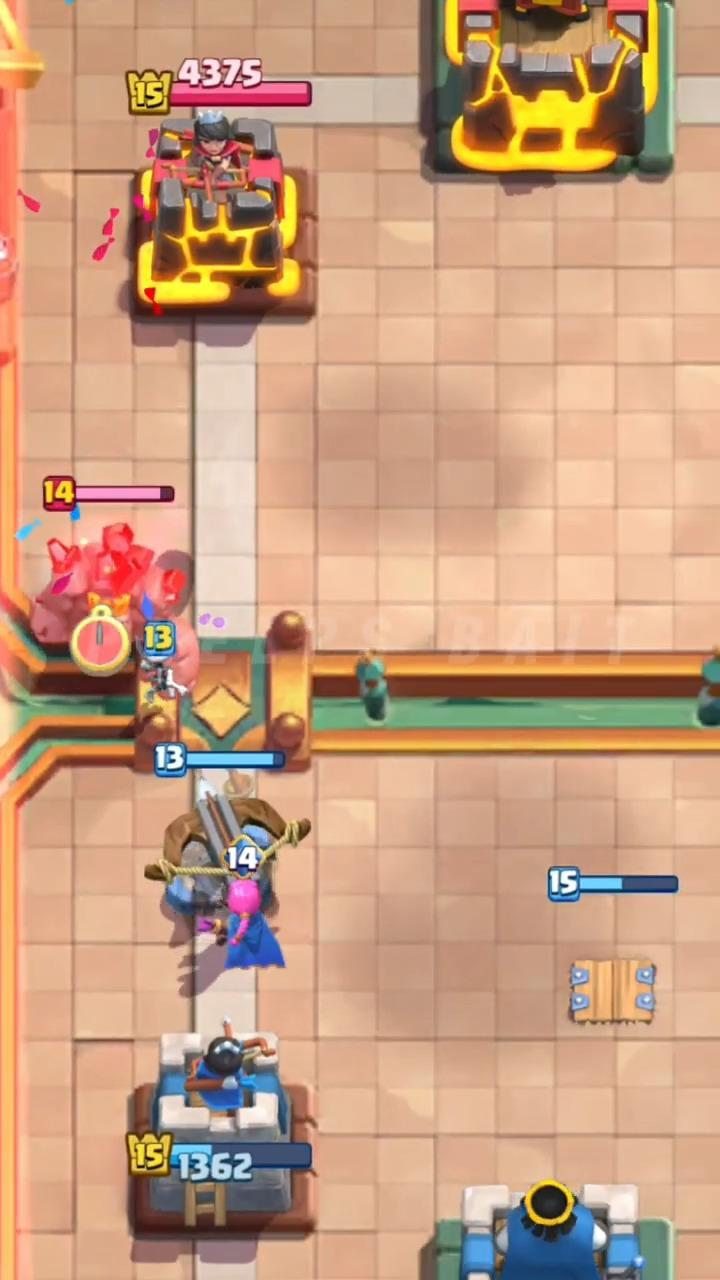archer: (218, 880, 285, 968)
golem: (31, 523, 191, 646), (179, 623, 197, 683)
skeleton: (140, 623, 188, 702)
tesla: (569, 958, 656, 1023)
x-bow: (145, 770, 311, 921)
